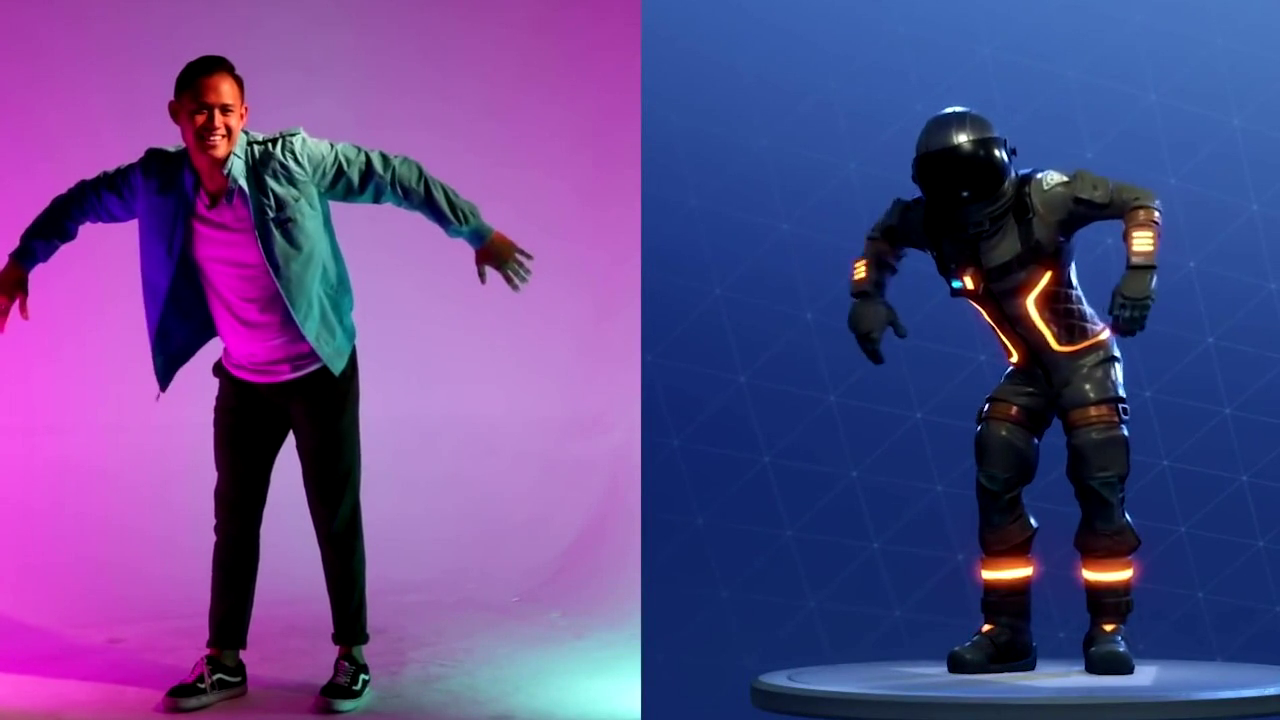Head: (163, 44, 251, 164)
Hip: (179, 331, 391, 442)
LeftAnkle: (295, 634, 416, 715)
LeftElbow: (378, 134, 446, 225)
LeftKnee: (286, 488, 385, 565)
LeftShoulder: (255, 126, 371, 212)
LeftWrist: (450, 187, 540, 296)
RightAnkle: (150, 624, 264, 713)
RightElbow: (26, 180, 107, 267)
RightKnee: (188, 483, 283, 558)
RightShoulder: (111, 143, 209, 223)
Torso: (141, 161, 347, 356)
